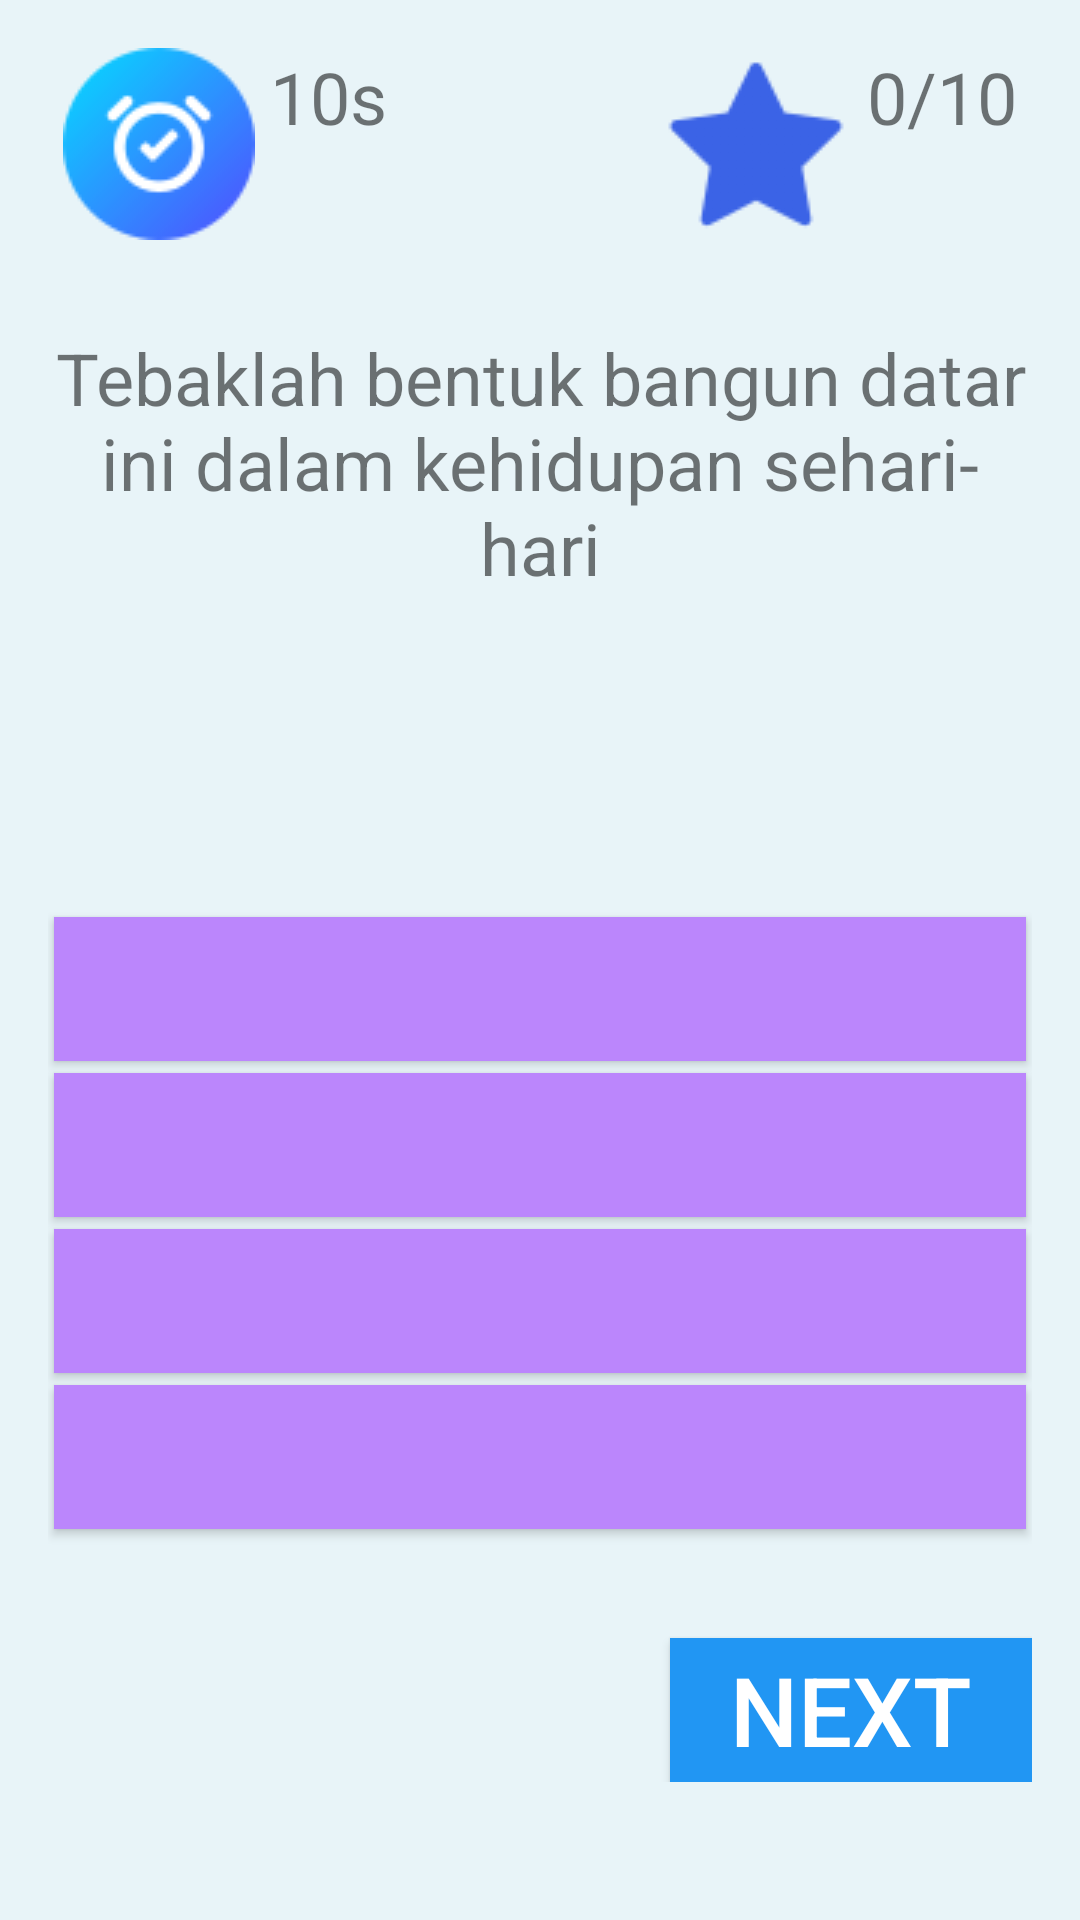

Icon bounding boxes for this 1080 × 1920 phone screenshot, format (x1, y1, x2, y2):
star: (669, 62, 843, 226)
timer: (63, 48, 255, 240)
